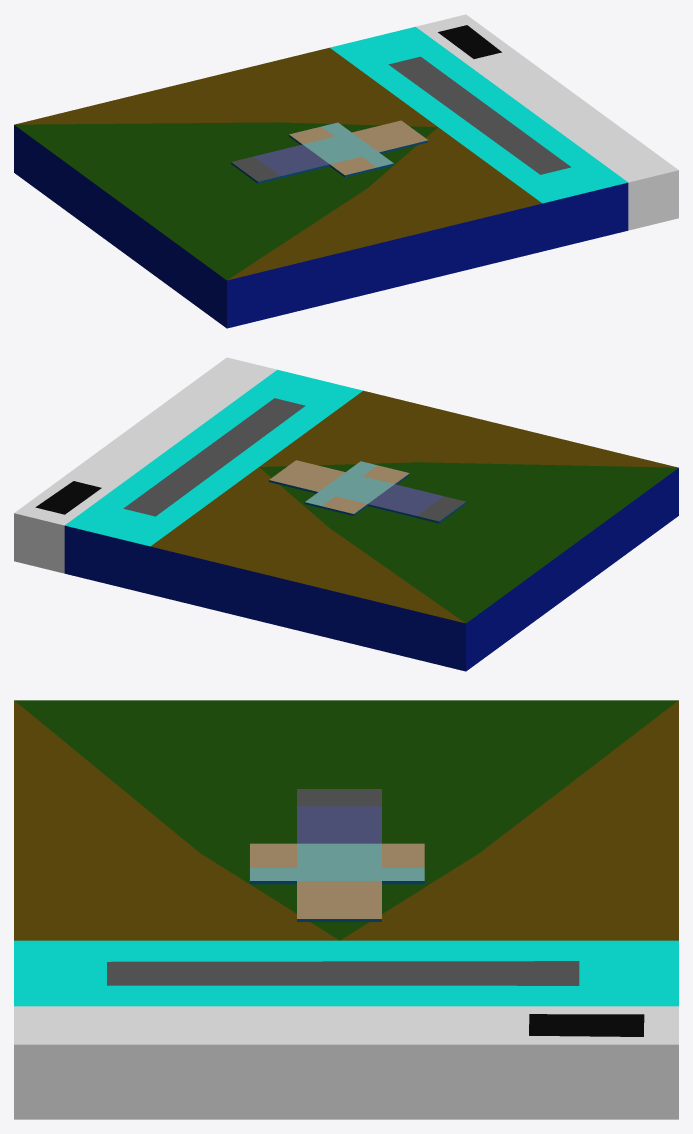
The model's file is SM_TabletopGame.fbx.
3 renders of one model, top to bottom at view 1: azimuth 30°, elevation 25°; view 2: azimuth 150°, elevation 25°; view 3: azimuth 270°, elevation 25°, orthographic. The views are drawn at different scales.
Parts seen in each view (by area): view 1: polySurface2; view 2: polySurface2; view 3: polySurface2.
Boxes of the visible parts, x1=… form: polySurface2: x1=14, y1=14, x2=678, y2=328; polySurface2: x1=14, y1=357, x2=678, y2=671; polySurface2: x1=14, y1=700, x2=678, y2=1119.
Size of the model in its own units: 9.1 by 0.9747 by 7.42.
